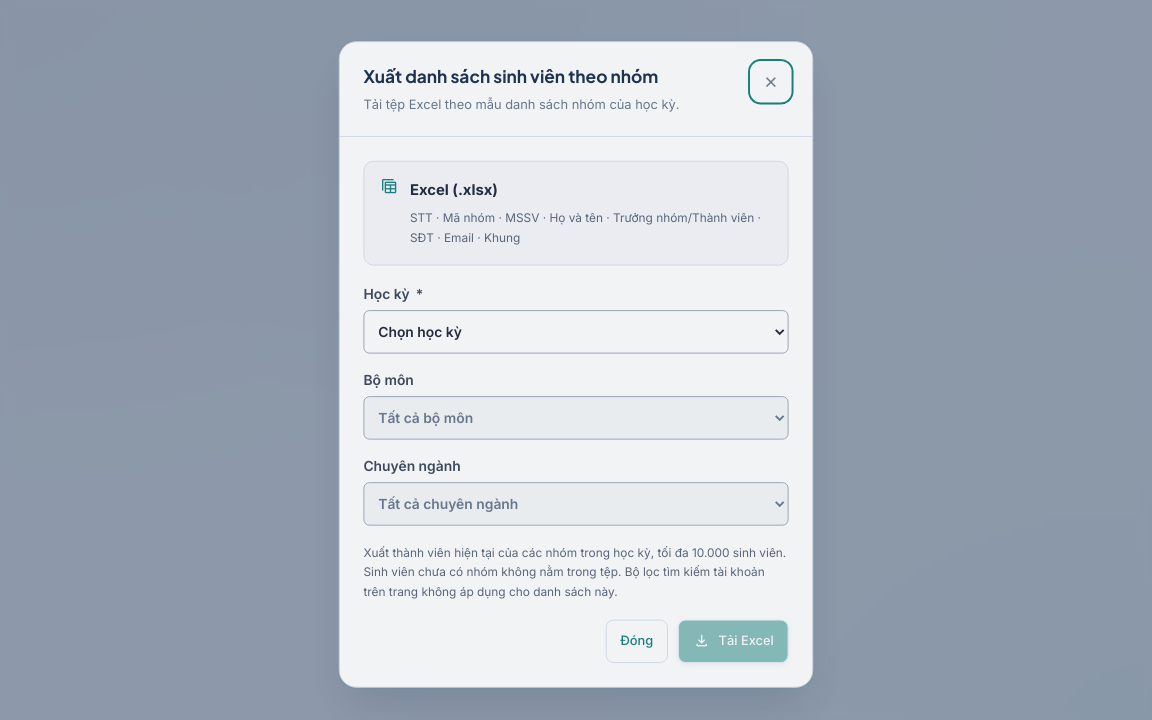
explains HTTP 401 without starting a download
The width and height of the screenshot is (1152, 720).
Select "FA26 · Fall 2026 (FPT)" in the dropdown labelled "Học kỳ *" at (576, 327), box [361,305,791,349]
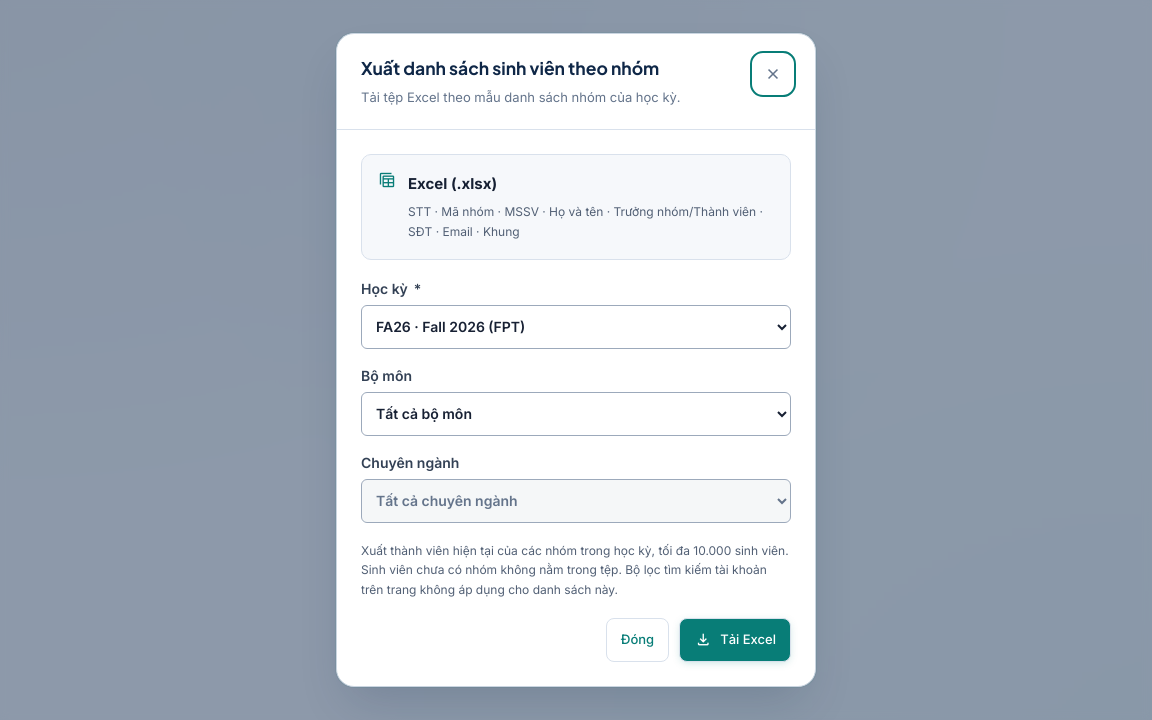
Click the button "Tải Excel" at (735, 640), box [679,618,791,662]
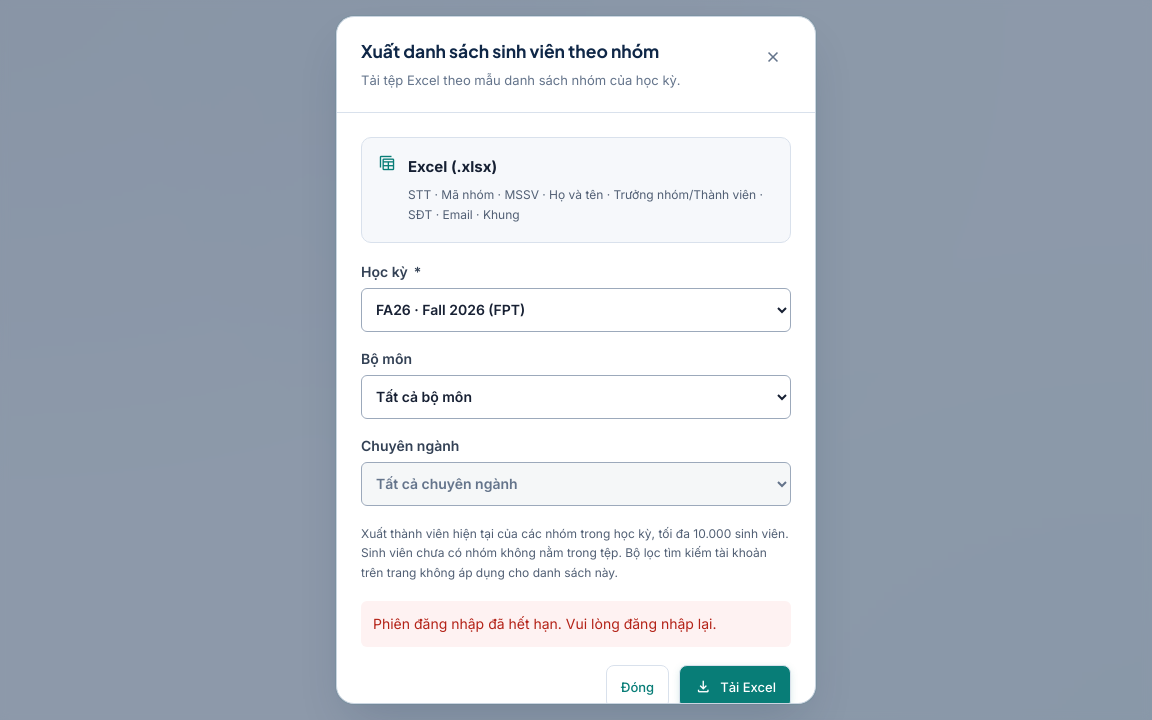
Expected: the button "Tải Excel" is enabled, [679,665,791,703]
Expected: the message shows "đăng nhập đã hết hạn", [373,615,716,632]
